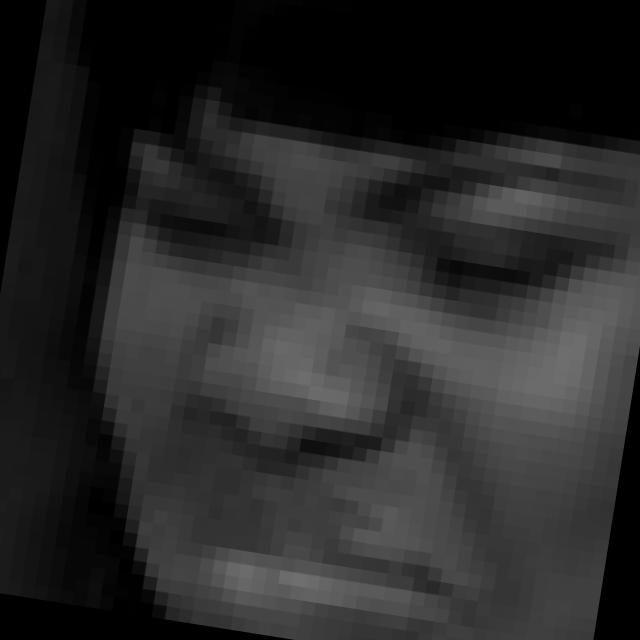disgust: (72, 91, 625, 640)
